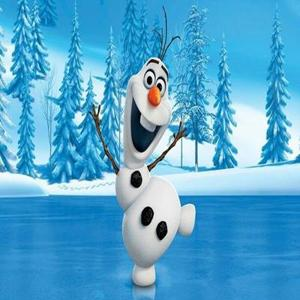olaf: (112, 10, 199, 291)
